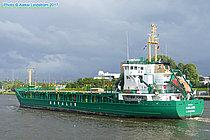Ship: (12, 20, 205, 123)
